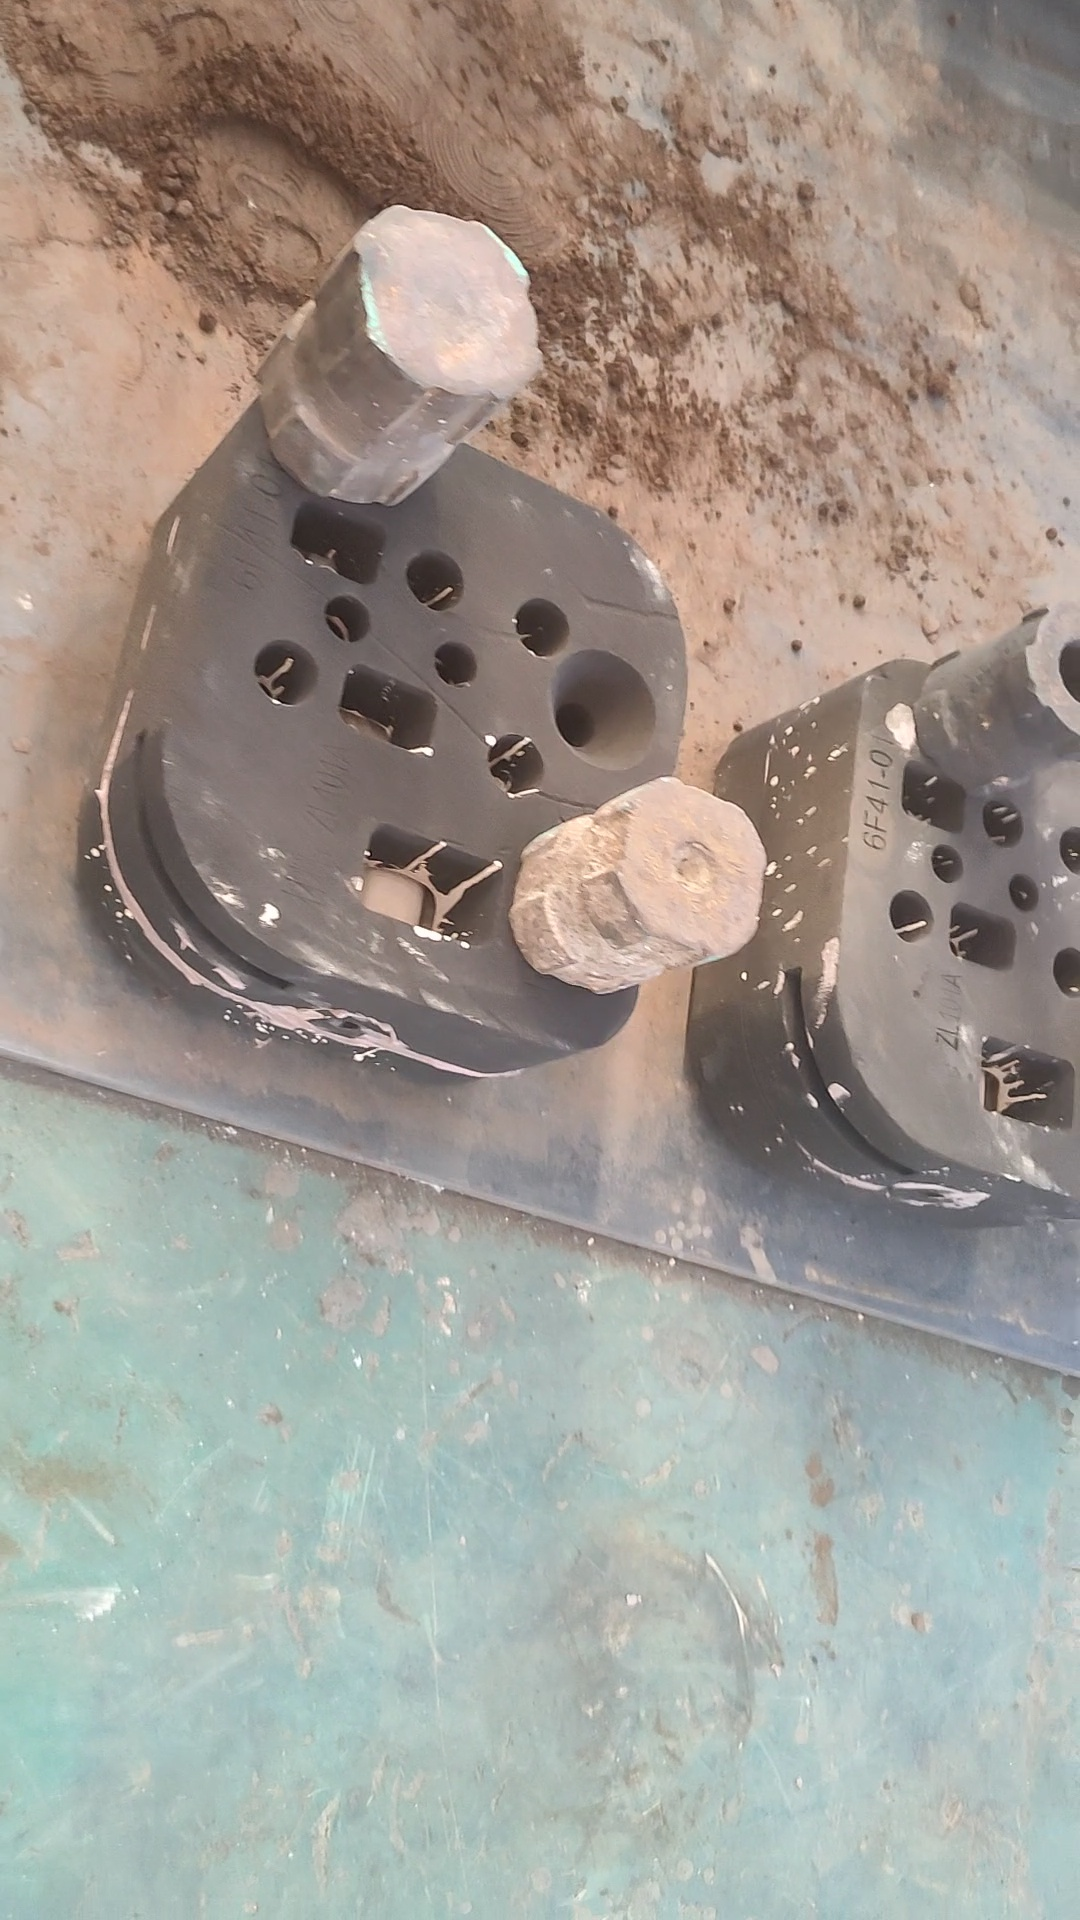pouring hole: (551, 649, 655, 769)
